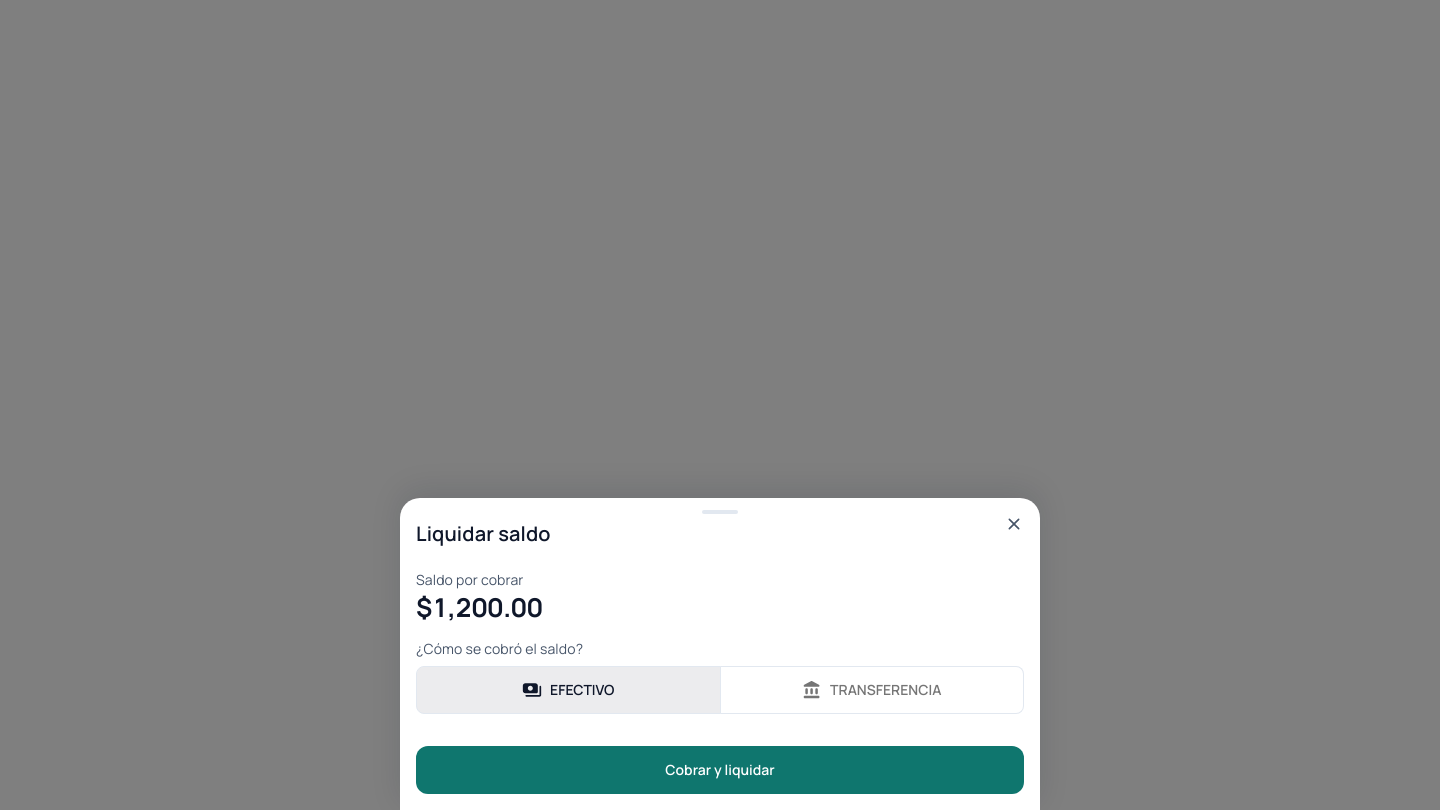
SettleSheet › an org with the reference optional (US-A88) › still rejects a too-short reference once typing starts
Click the button "Transferencia" at (872, 690), box [720,666,1024,714]
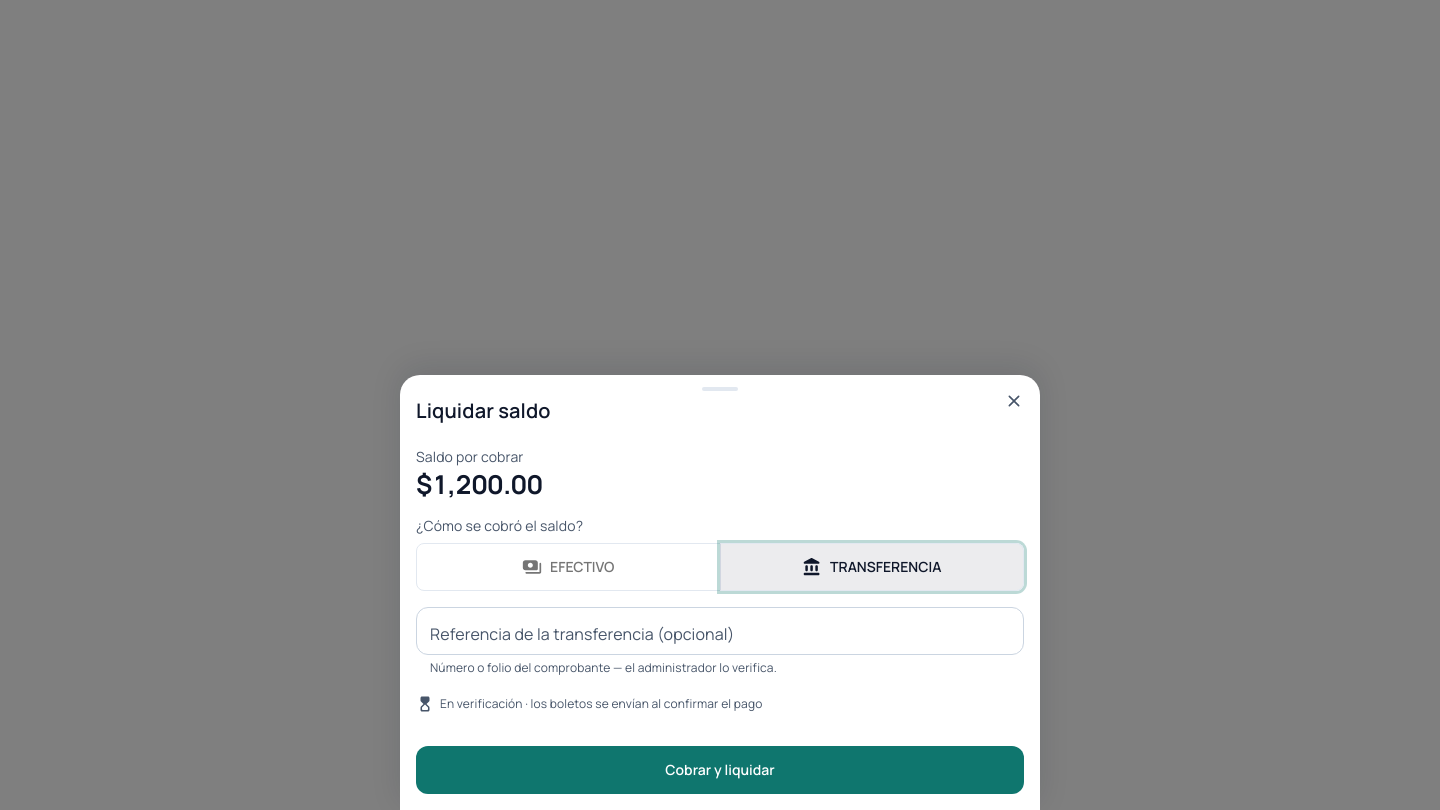
Type "ABC" into the field labelled "Referencia de la transferencia (opcional)" at (720, 631), box [416,607,1024,655]
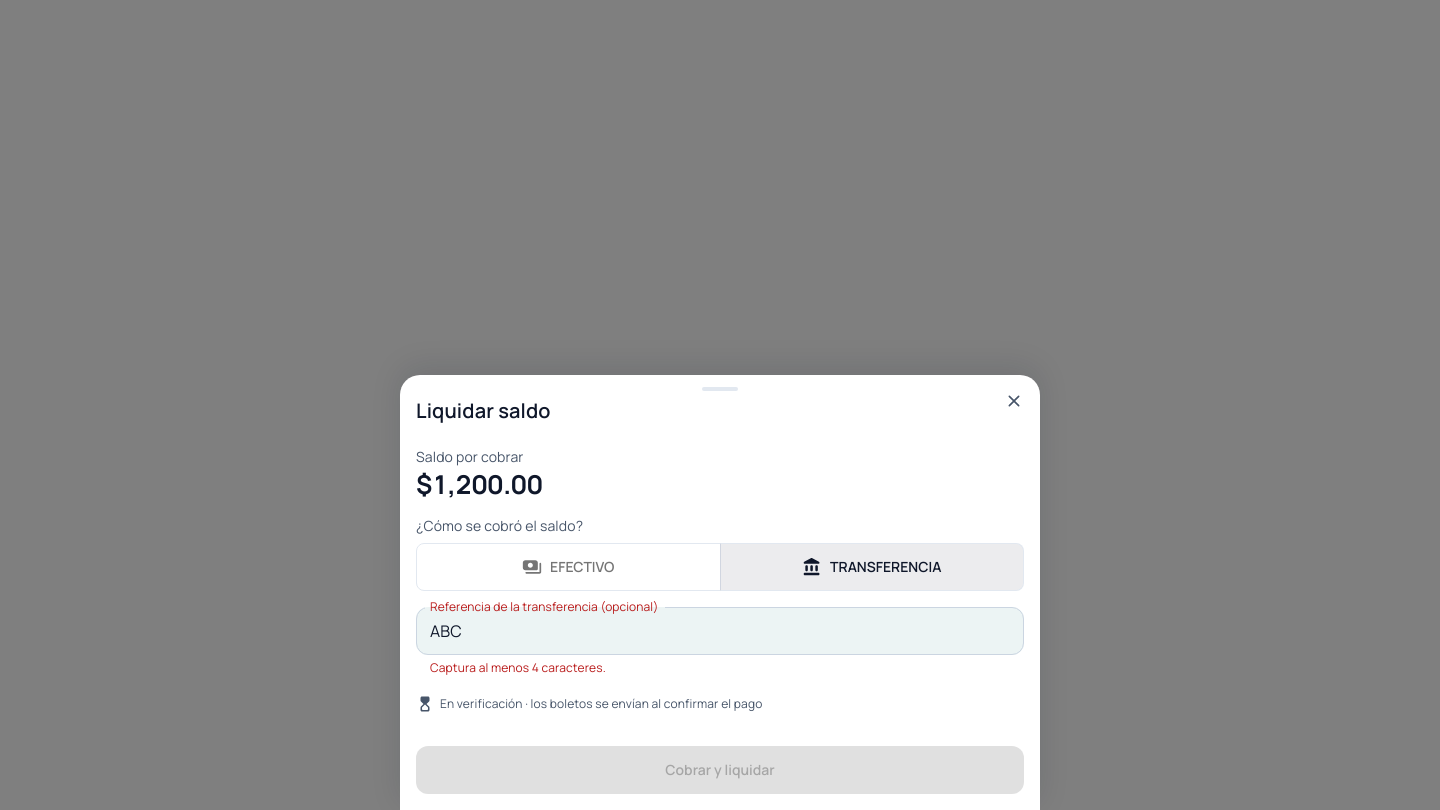
expect the button "Cobrar y liquidar" is disabled: met, box [416,746,1024,794]
expect the text "Captura al menos 4 caracteres." is shown: met, box [430,659,606,676]
